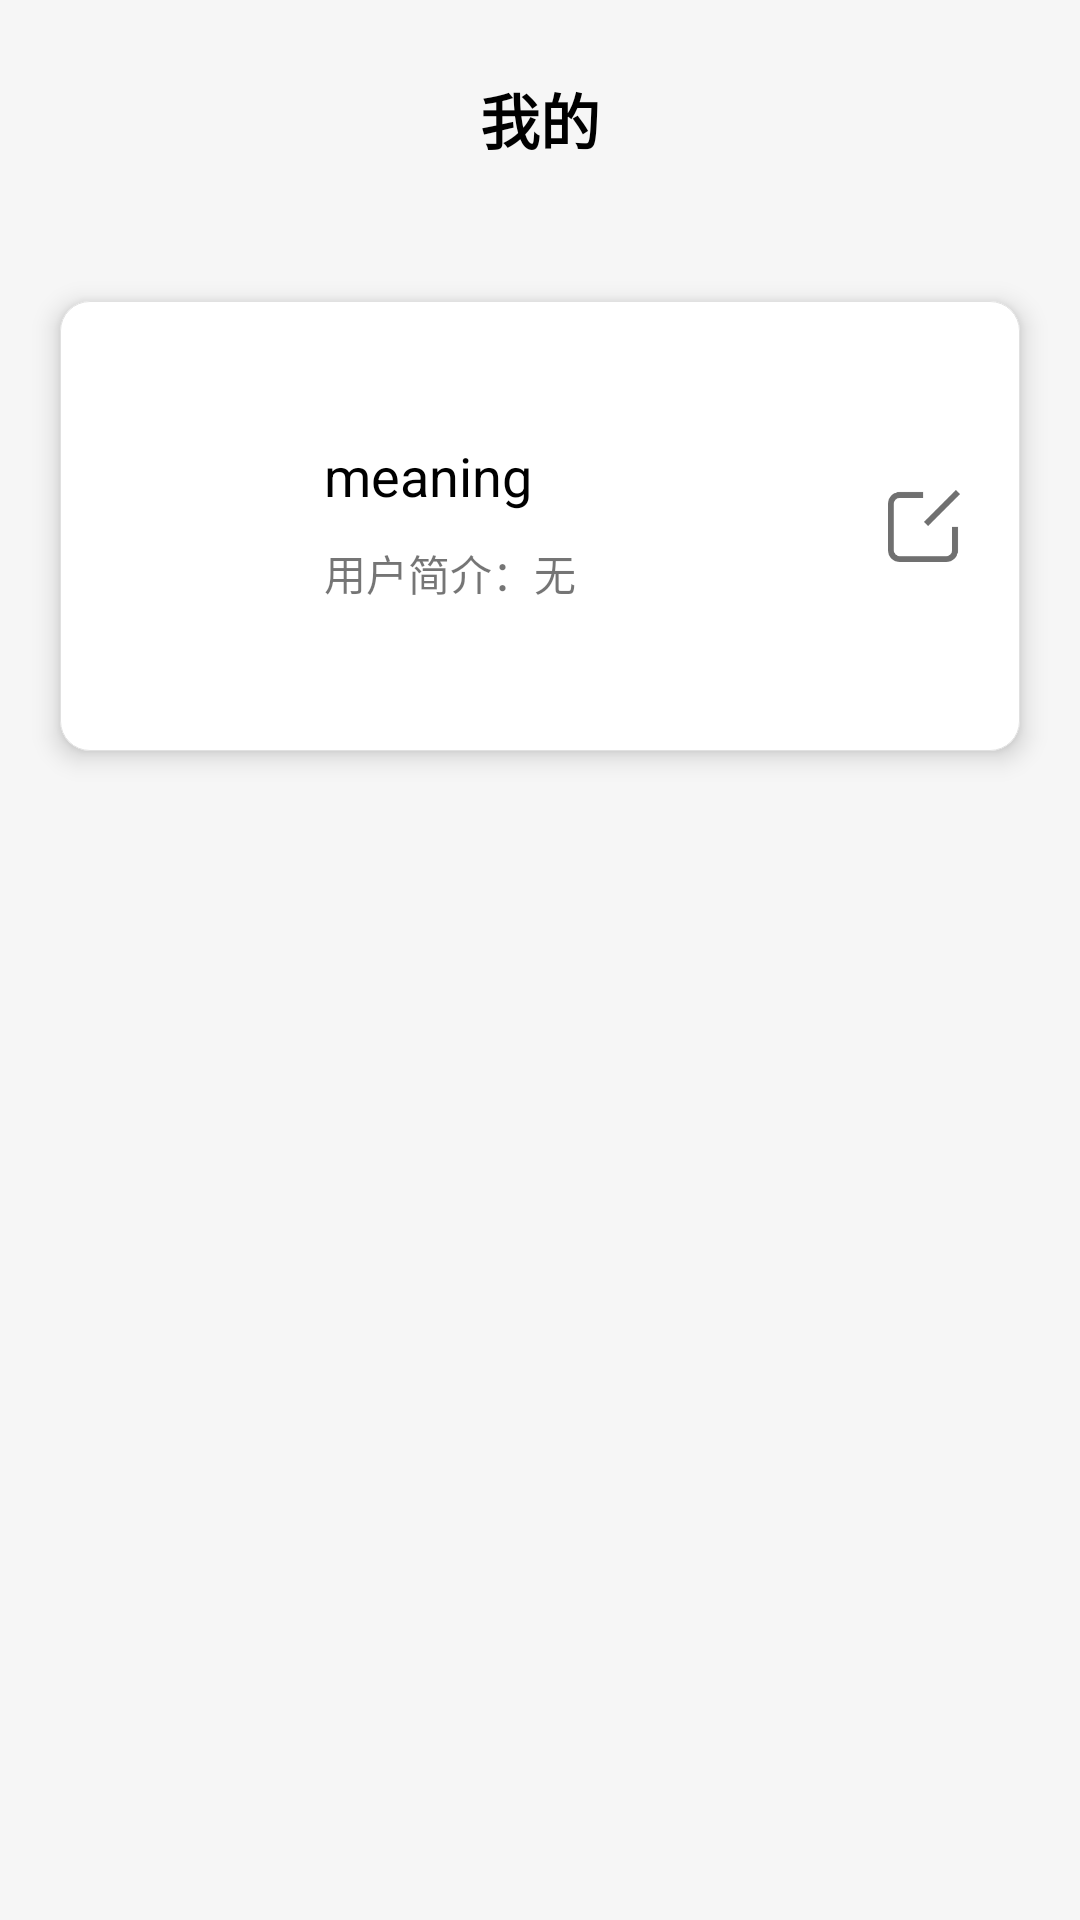

Where icons sit on this 1080 x 1920 app screen, as (x1, y1, x2, y2):
edit: (888, 490, 960, 562)
